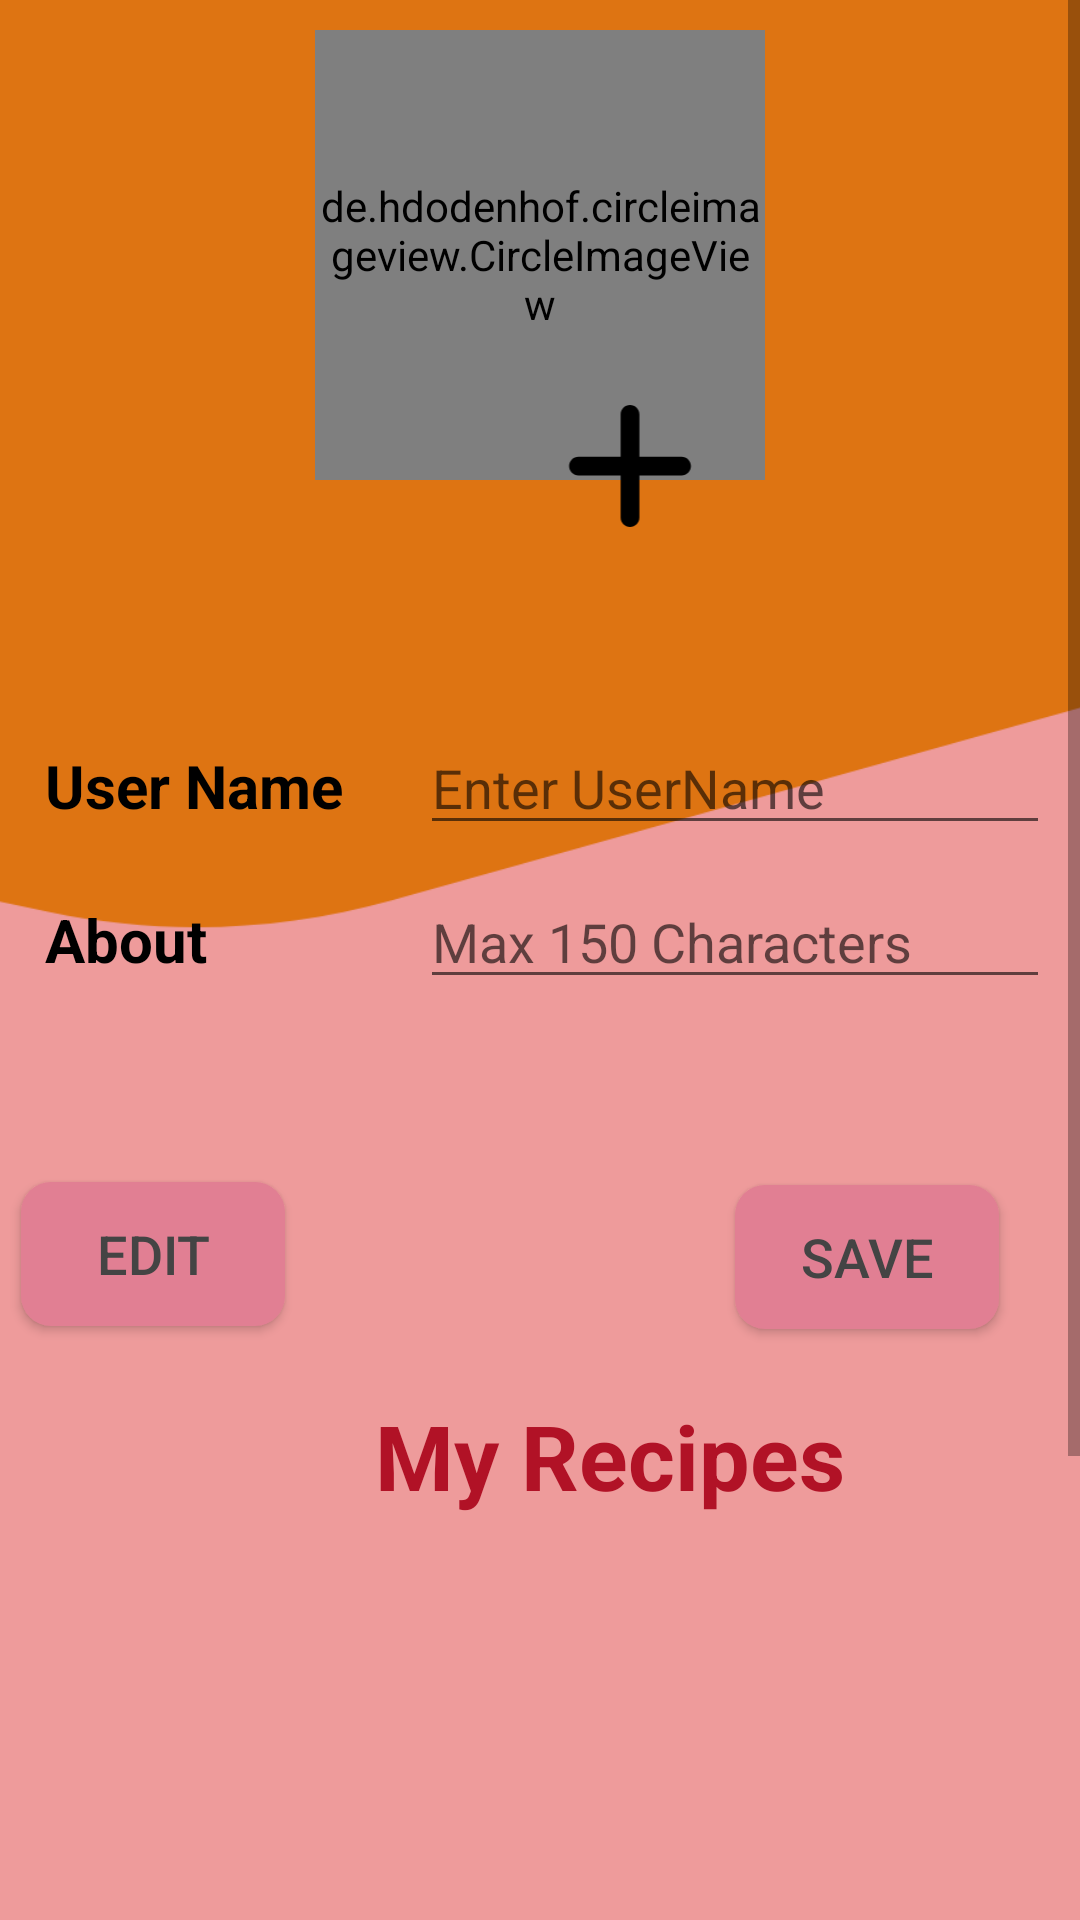

Screen size 1080px x 1920px. Icon name, then its center in pixels as [x,y]:
plus sign: [630,466]
